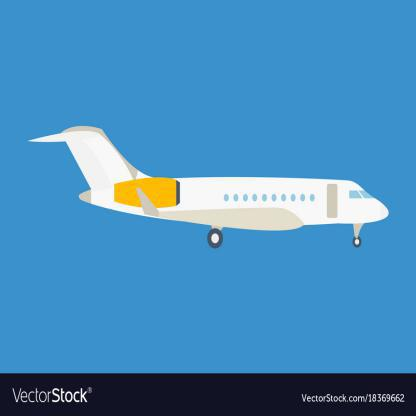CIV_Plane: (21, 115, 394, 264)
